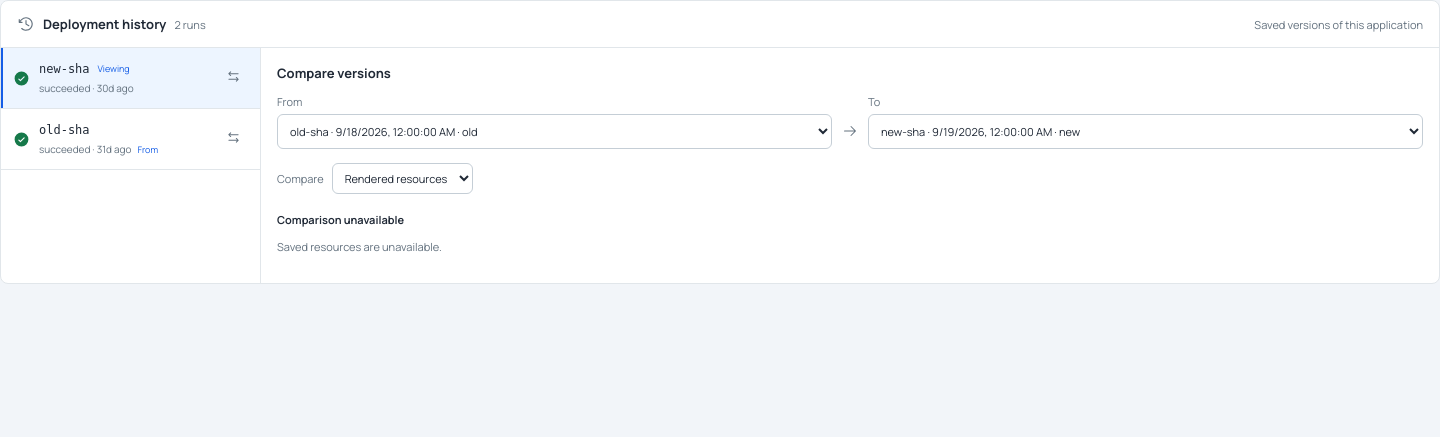
does not silently fall back to inputs when saved resources are missing
Expected: the text "Comparison unavailable" is shown, [277,212,404,227]
Expected: the text "/values/replicas" is not shown
Select "Saved inputs" in the dropdown named "Comparison details" at [402, 178], box [332,163,473,194]
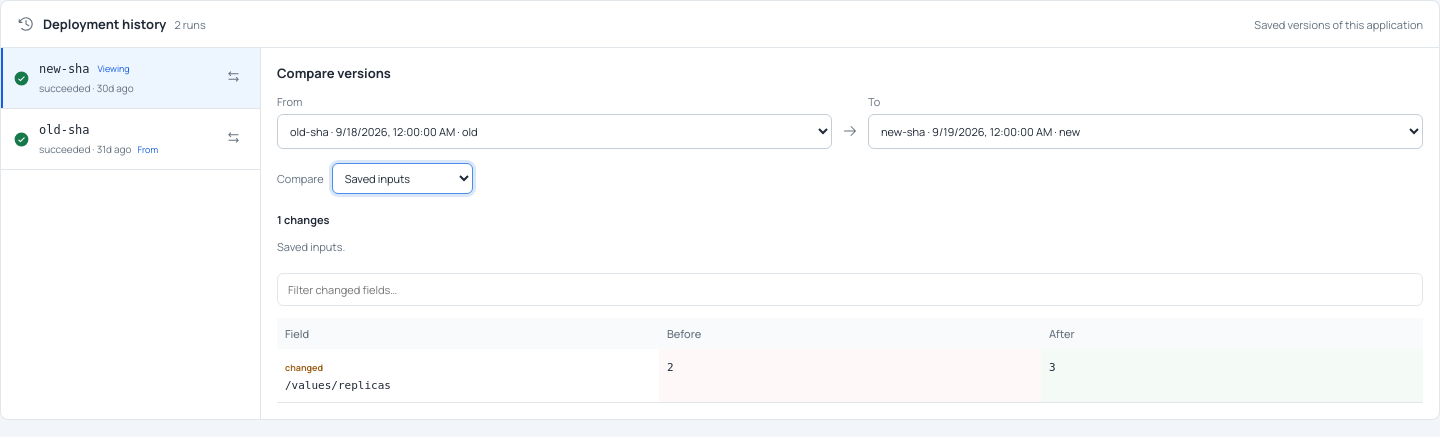
Expected: the text "/values/replicas" is shown, [285,379,391,392]
